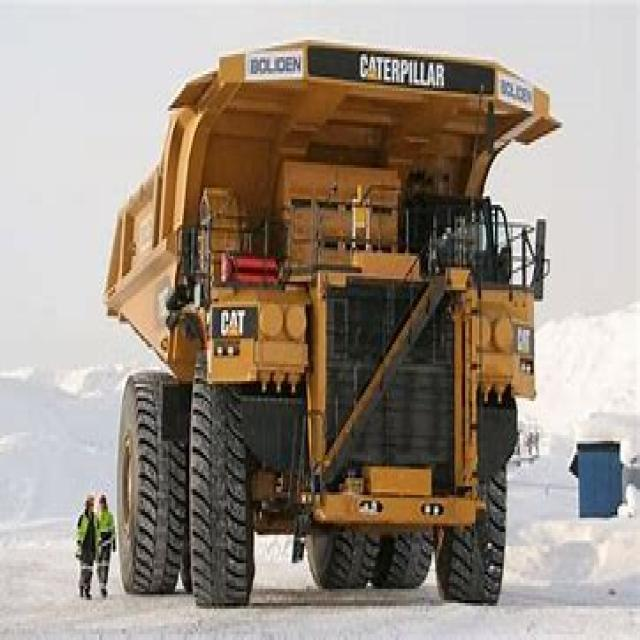dump_truck: (85, 26, 557, 603)
